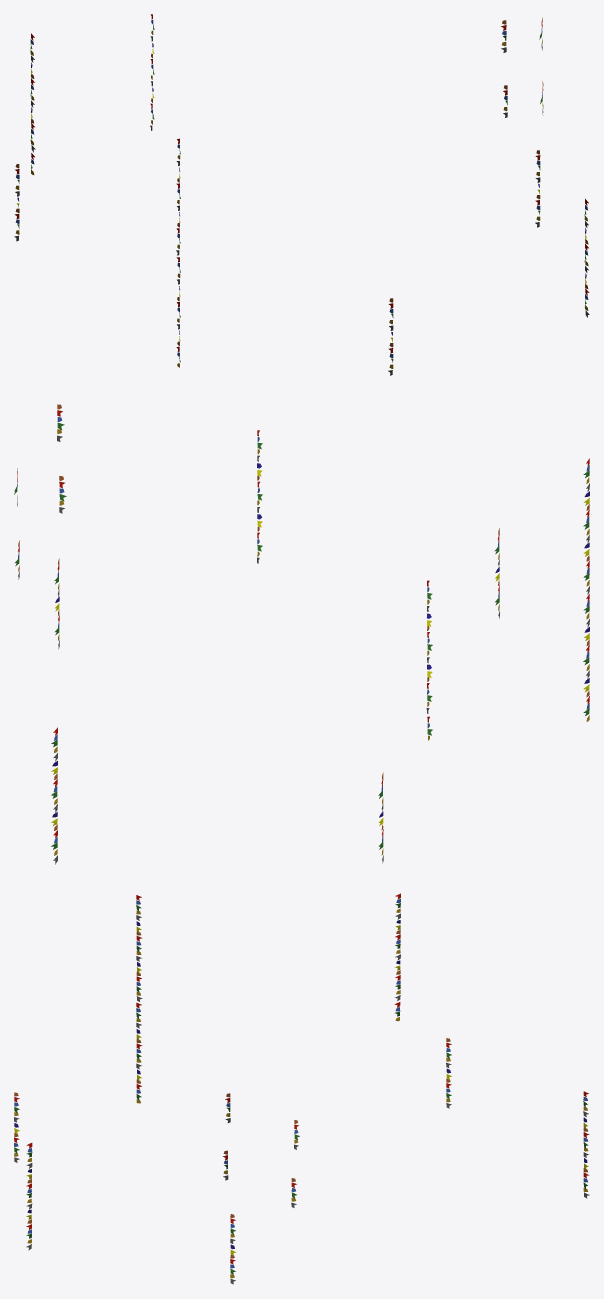
Rendered from Corda.fbx.
3 renders of one model, top to bottom at view 1: azimuth 30°, elevation 25°; view 2: azimuth 150°, elevation 25°; view 3: azimuth 270°, elevation 25°, orthographic. The views are drawn at different scales.
Visible parts, largest first — view 1: no part large enough to name; view 2: Bandeira5.002; view 3: Bandeira5.002, Bandeira5.005.
Part boxes in pixels (x1=…): Bandeira5.002: x1=583, y1=458, x2=589, y2=721; Bandeira5.002: x1=136, y1=895, x2=142, y2=1103; Bandeira5.005: x1=394, y1=893, x2=400, y2=1021.
Bounding box in the file's own units: 19681 × 10332 × 25681.
